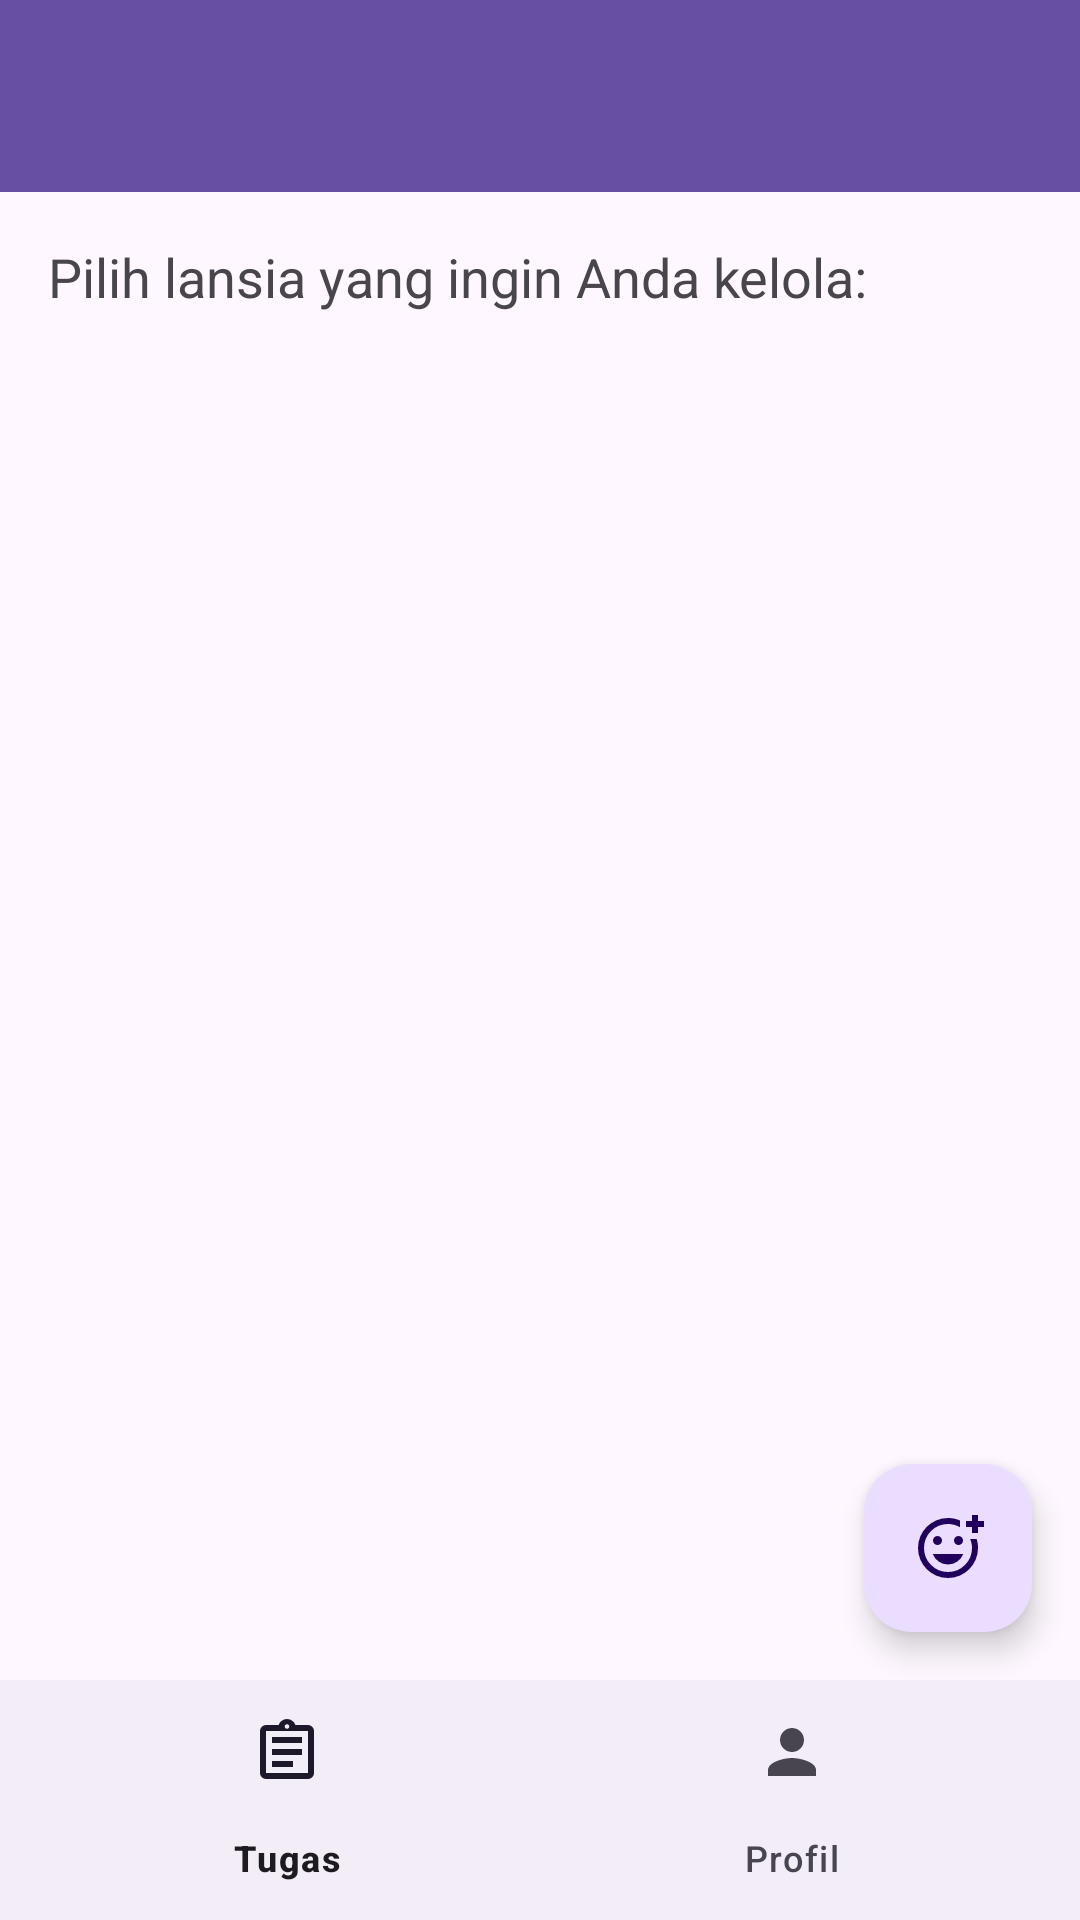

Icons on this 1080*1920 Android screen, each with the point to tap as (x,y):
Tambah Koneksi Lansia: (948,1548)
